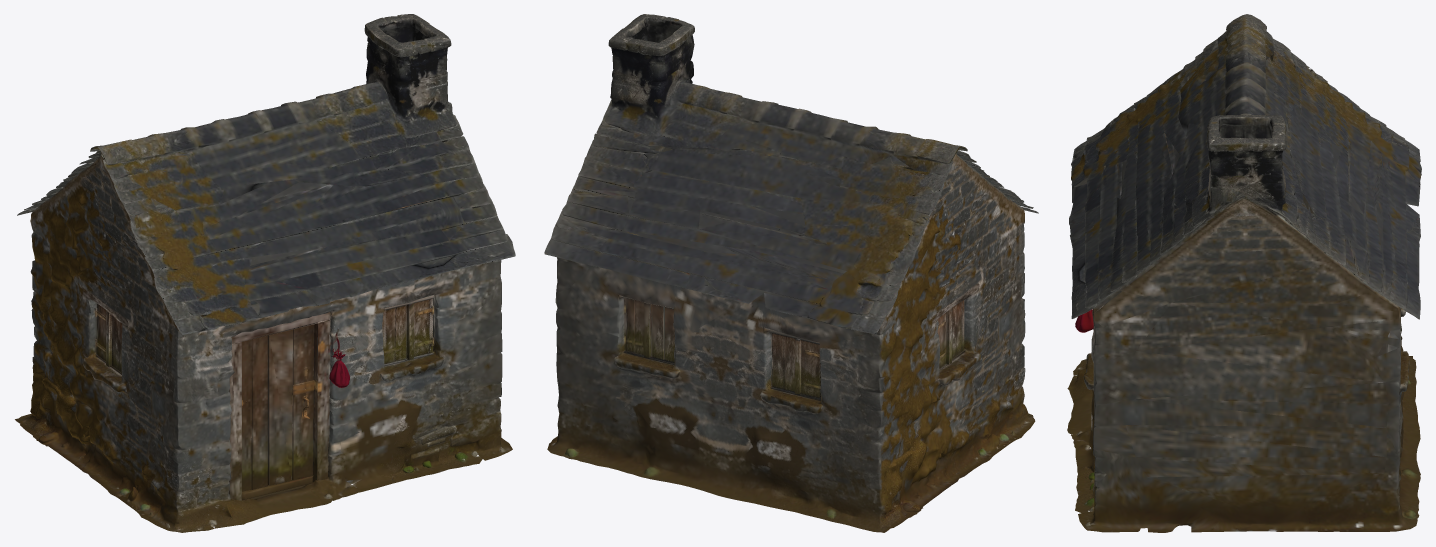
File: vil-house-b_optimized.glb
3 views of the same model, side by side, from view 1: azimuth 30°, elevation 25°; view 2: azimuth 150°, elevation 25°; view 3: azimuth 270°, elevation 25° (orthographic). The views are drawn at different scales.
Visible parts, largest first — view 1: Mesh_0; view 2: Mesh_0; view 3: Mesh_0.
Part boxes in pixels (x1,y1,x2,y2): Mesh_0: (15,14,515,532); Mesh_0: (544,14,1038,532); Mesh_0: (1067,14,1421,532).
Bounding box in the file's own units: 0.9448 × 0.9526 × 0.7871.
Materials: 1 (1 with a texture image).
